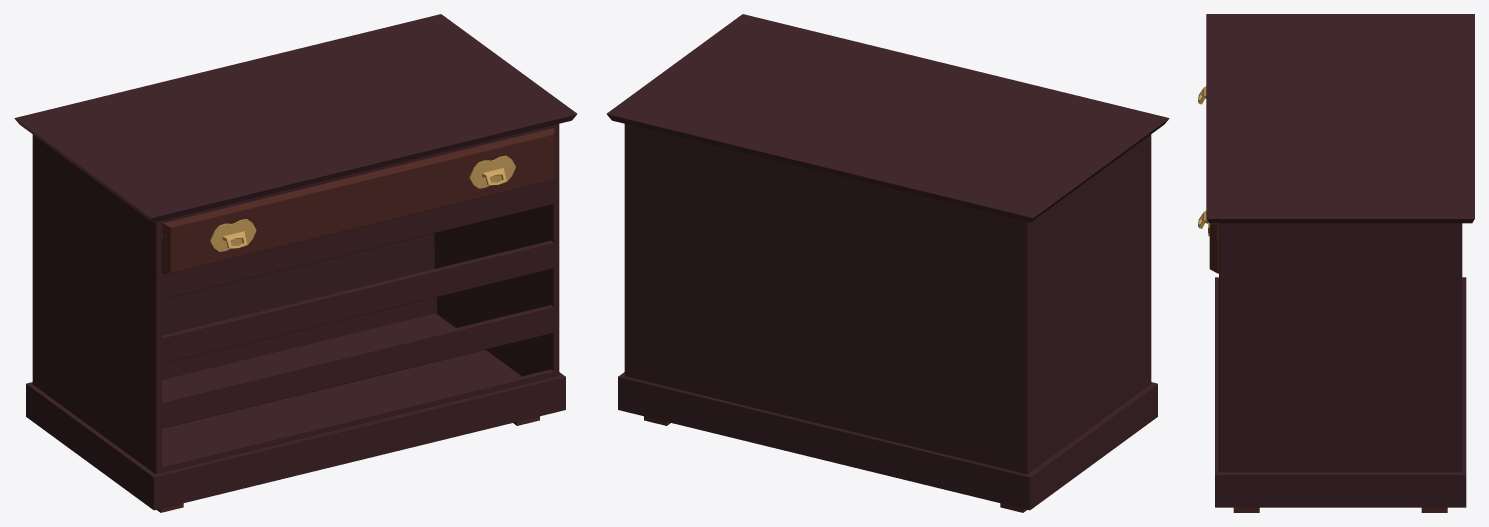
The model's file is Comoda.fbx.
3 views of the same model, side by side, from view 1: azimuth 30°, elevation 25°; view 2: azimuth 150°, elevation 25°; view 3: azimuth 270°, elevation 25° (orthographic).
Visible parts, largest first — view 1: Base, Gaveta, Alca 01; view 2: Base; view 3: Base, Gaveta, Pes.
Boxes of the visible parts, box(x1,y1,x2,y2) form: Base: box(14, 14, 577, 510); Gaveta: box(162, 128, 554, 273); Alca 01: box(210, 155, 515, 251); Base: box(606, 14, 1169, 510); Base: box(1206, 14, 1474, 507); Gaveta: box(1209, 223, 1218, 273); Pes: box(1233, 507, 1447, 512).
Size of the model in its own units: 169 by 118 by 96.74.
